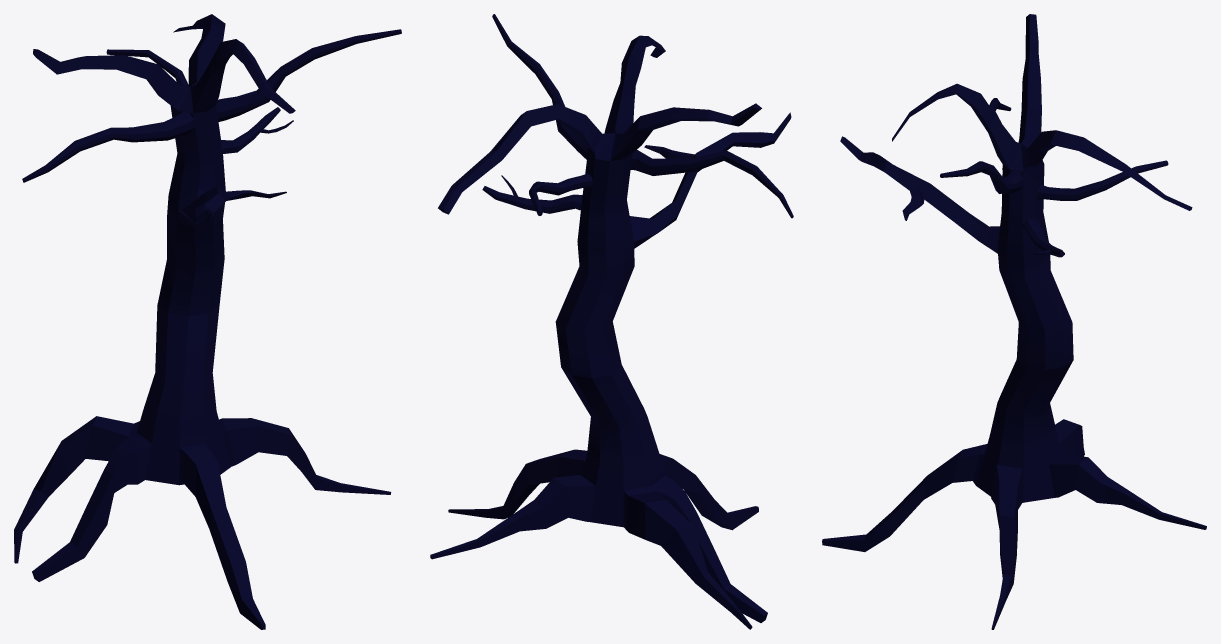
File: tree.fbx
3 views of the same model, side by side, from view 1: azimuth 30°, elevation 25°; view 2: azimuth 150°, elevation 25°; view 3: azimuth 270°, elevation 25° (orthographic). The views are drawn at different scales.
Parts seen in each view (by area): view 1: tree2; view 2: tree2; view 3: tree2.
Part boxes in pixels (box(x1,y1,x2,y2)): tree2: box(14, 14, 401, 629); tree2: box(430, 14, 793, 629); tree2: box(822, 14, 1206, 629).
Size of the model in its own units: 9.7 by 13.64 by 9.83.
